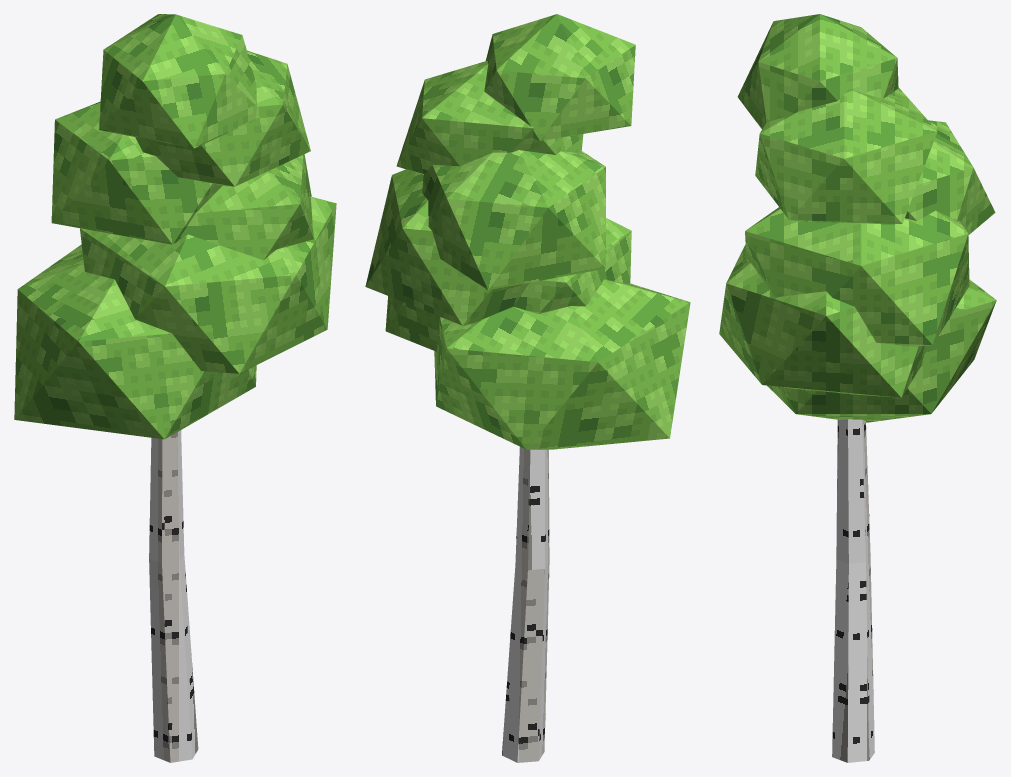
The model's file is birch0.glb.
The picture shows the model from 3 angles, left to right: view 1: azimuth 30°, elevation 25°; view 2: azimuth 150°, elevation 25°; view 3: azimuth 270°, elevation 25°; orthographic projection. The views are drawn at different scales.
Parts seen in each view (by area): view 1: birch0; view 2: birch0; view 3: birch0.
Part boxes in pixels (bbox=[...]): birch0: bbox=[14, 14, 336, 762]; birch0: bbox=[365, 14, 690, 762]; birch0: bbox=[719, 14, 996, 762].
Size of the model in its own units: 3.07 by 7.31 by 2.51.
2 materials, 2 textured.
